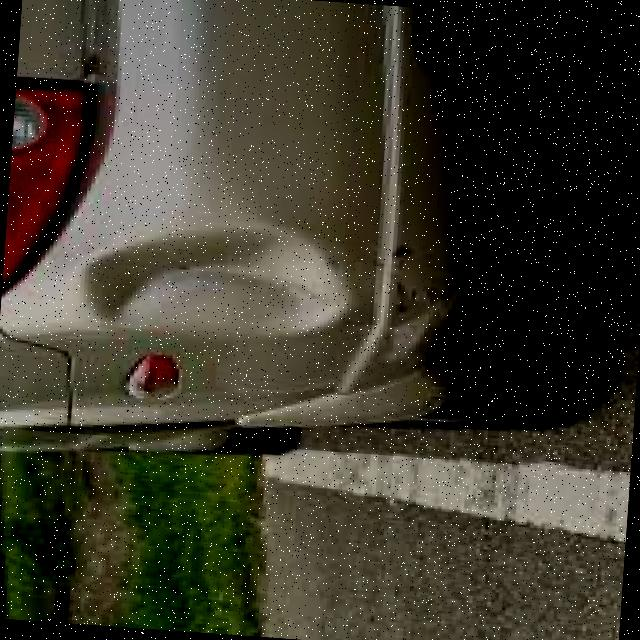Dent: (44, 201, 378, 361)
